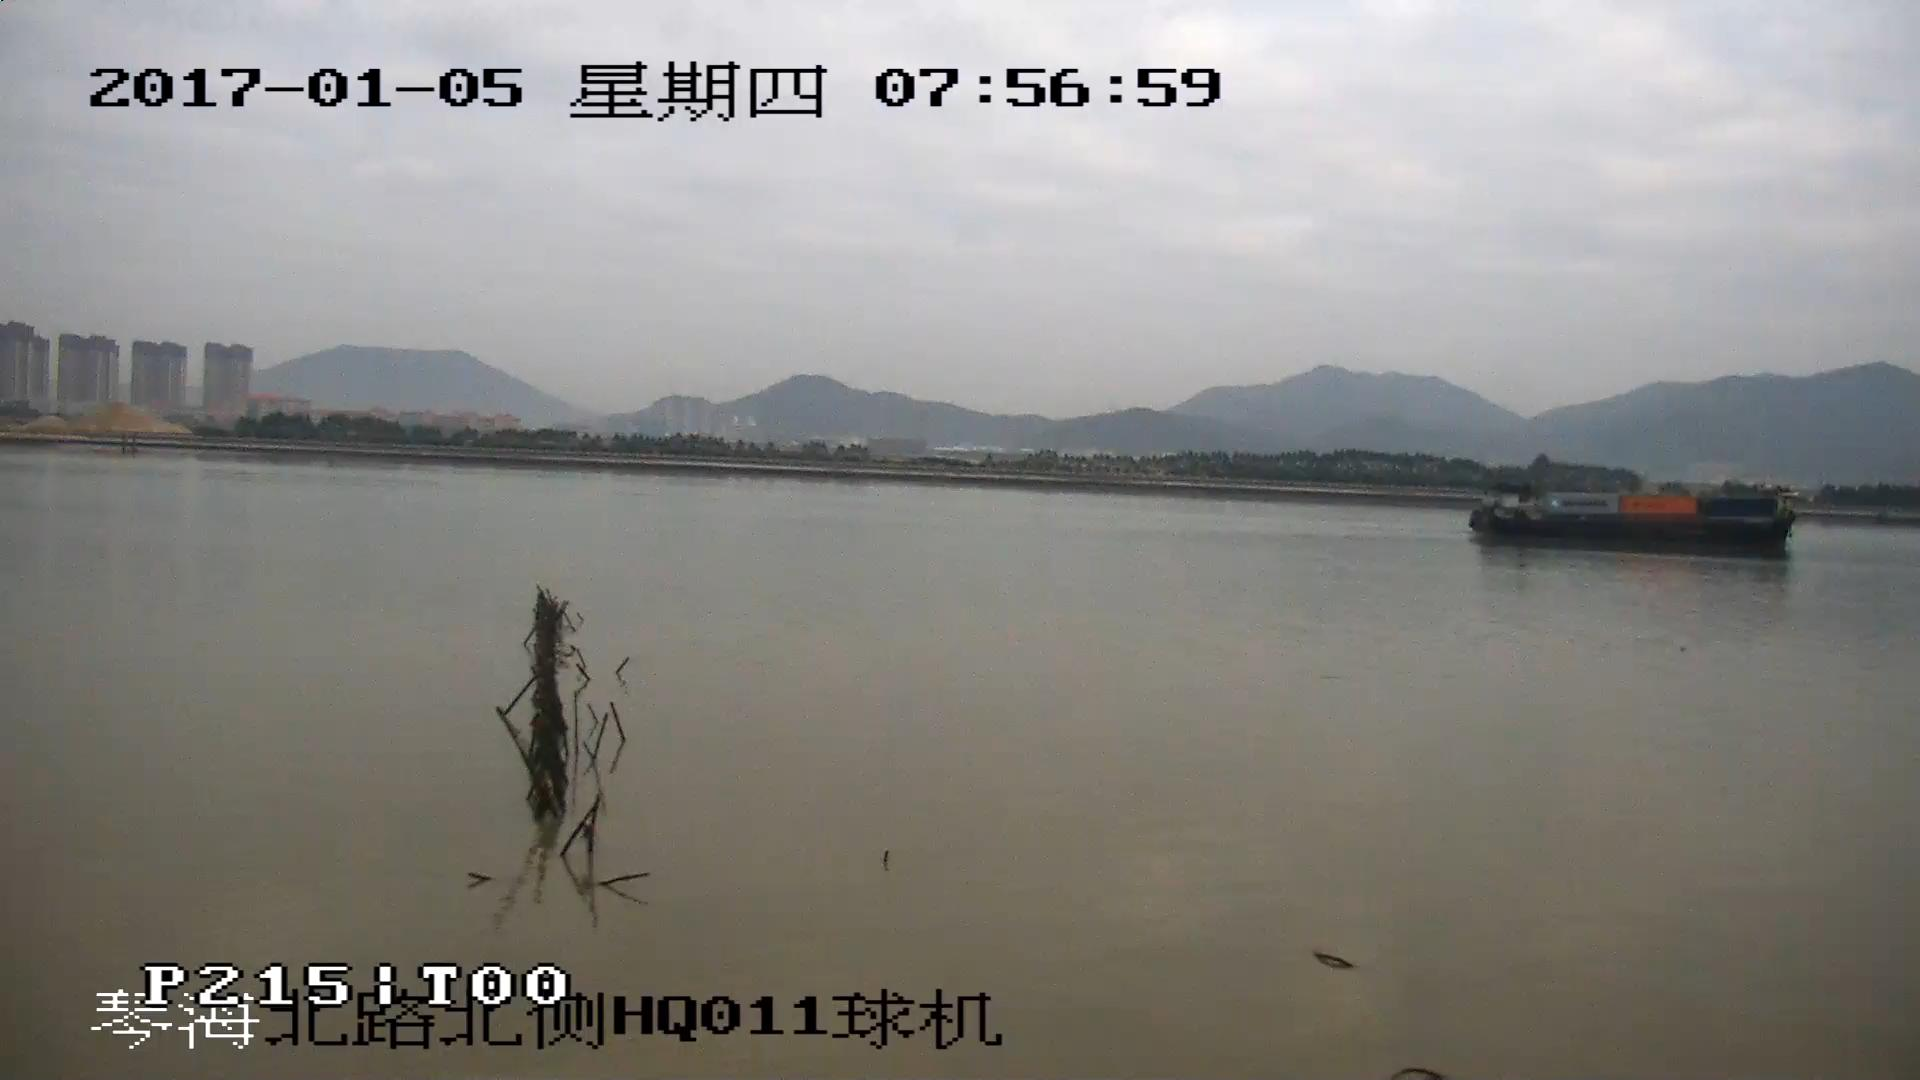container ship: (1467, 489, 1796, 555)
